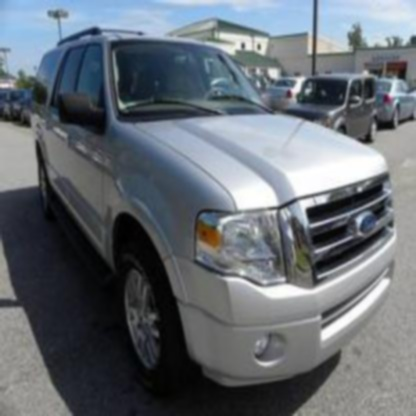Vehicle: (29, 22, 406, 398)
